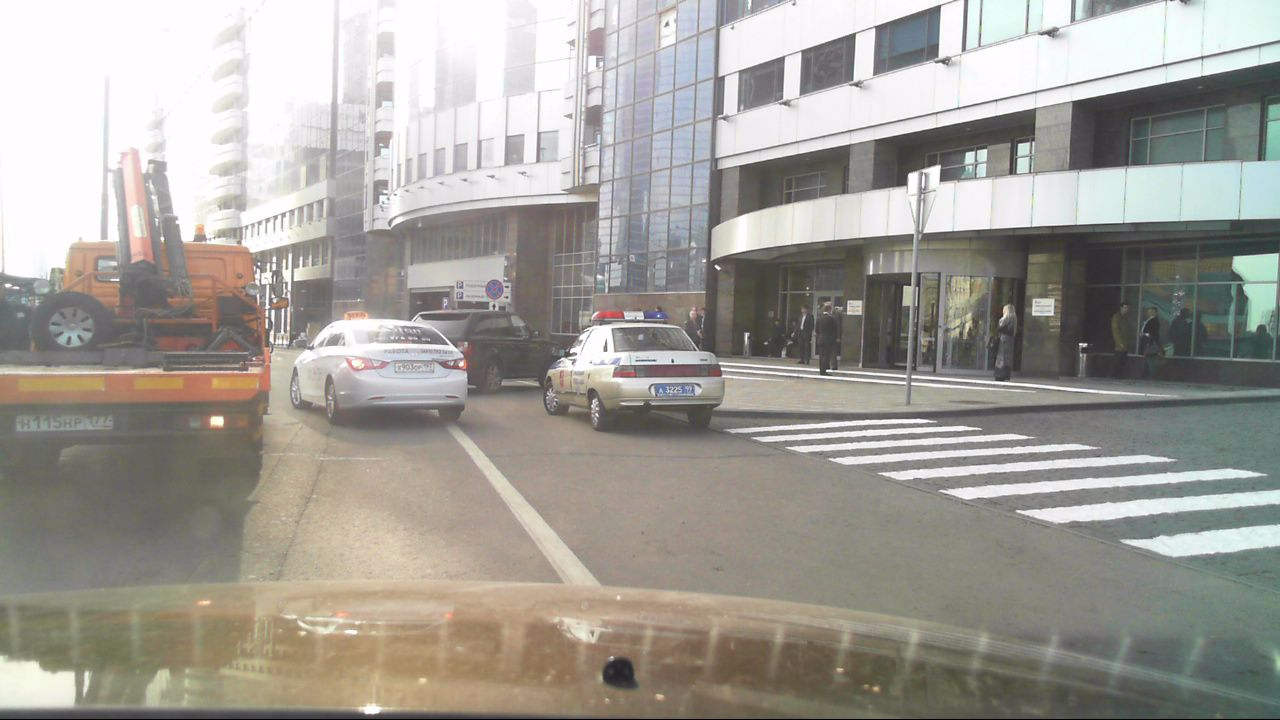No Parking: (487, 279, 505, 302)
